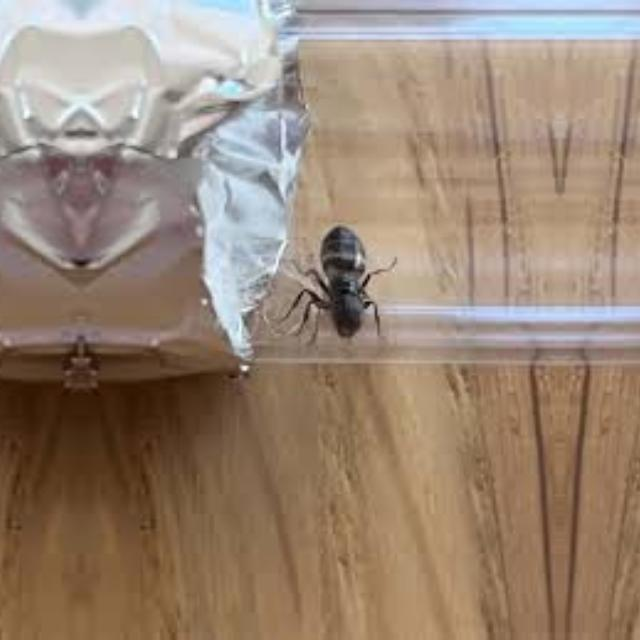Colobopsis: (302, 196, 398, 360)
